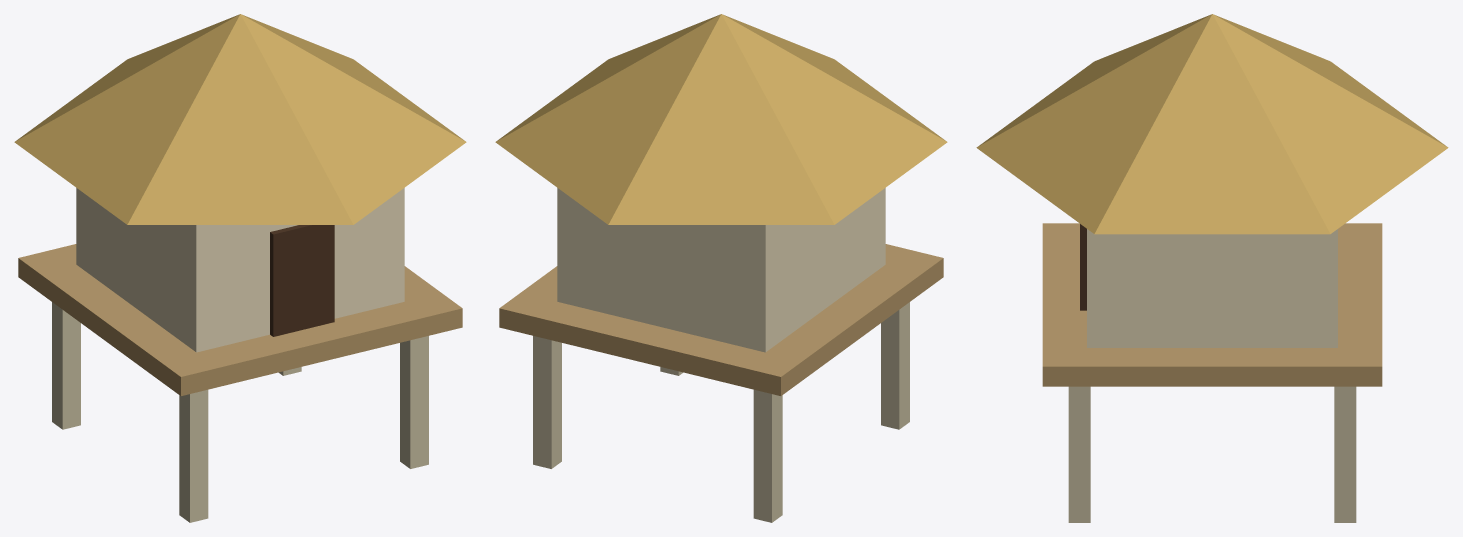
Rendered from stilt_hut.glb.
3 renders of one model, left to right at view 1: azimuth 30°, elevation 25°; view 2: azimuth 150°, elevation 25°; view 3: azimuth 270°, elevation 25°, orthographic. The views are drawn at different scales.
Visible parts, largest first — view 1: stilt_hut; view 2: stilt_hut; view 3: stilt_hut.
Part boxes in pixels (x1=…): stilt_hut: x1=14, y1=14, x2=466, y2=522; stilt_hut: x1=495, y1=14, x2=947, y2=522; stilt_hut: x1=976, y1=14, x2=1448, y2=522.
Size of the model in its own units: 5.54 by 6.7 by 6.4.
